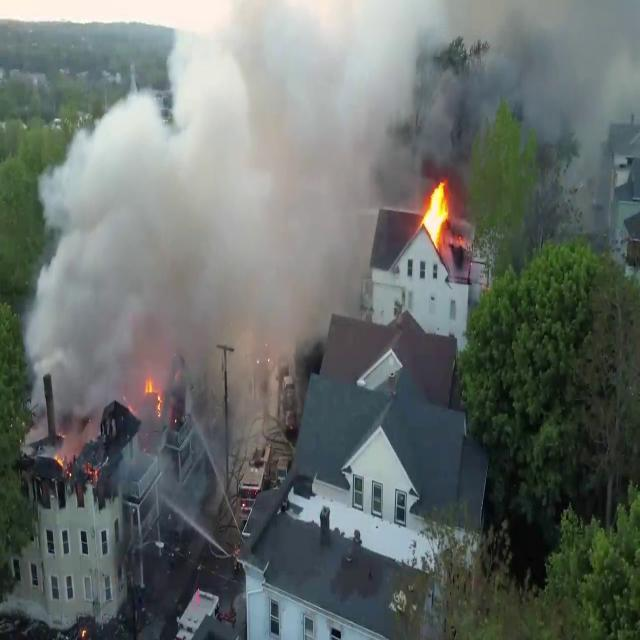Fire: (418, 176, 454, 250)
Smoke: (23, 0, 441, 432)
